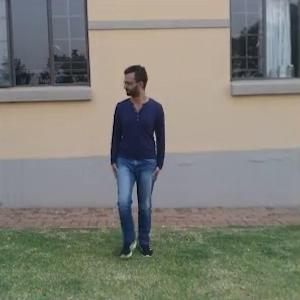follow: (106, 61, 164, 266)
